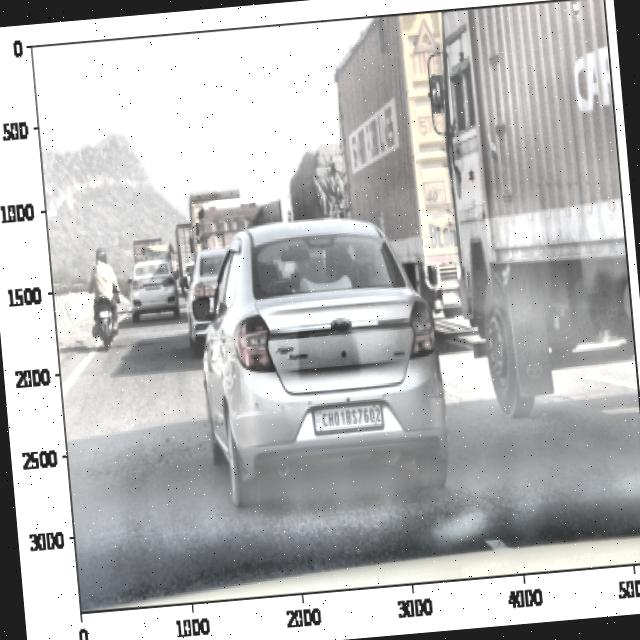license_plate: (313, 402, 384, 436)
